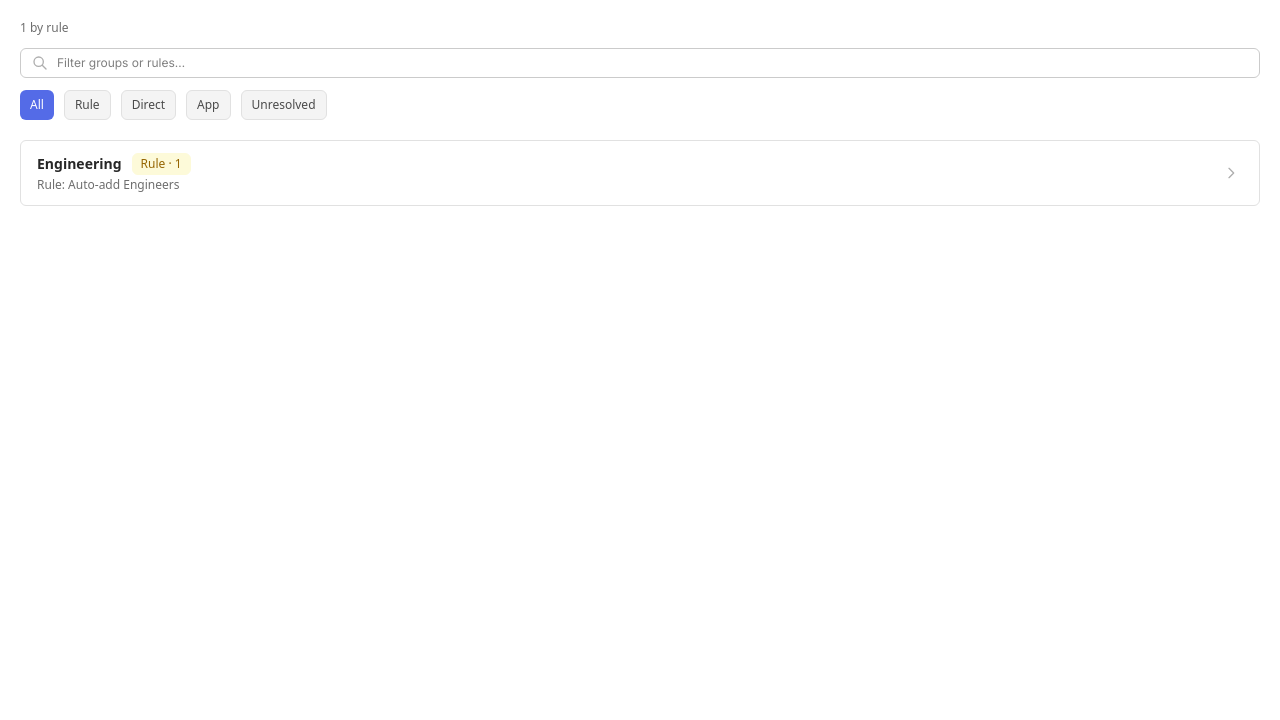
GroupMembershipsList — proving one membership against Okta › states an Okta "no rule" answer as an authoritative manual add
Click the button named "Show how Engineering was granted": click(1231, 173) [1219,161,1243,185]
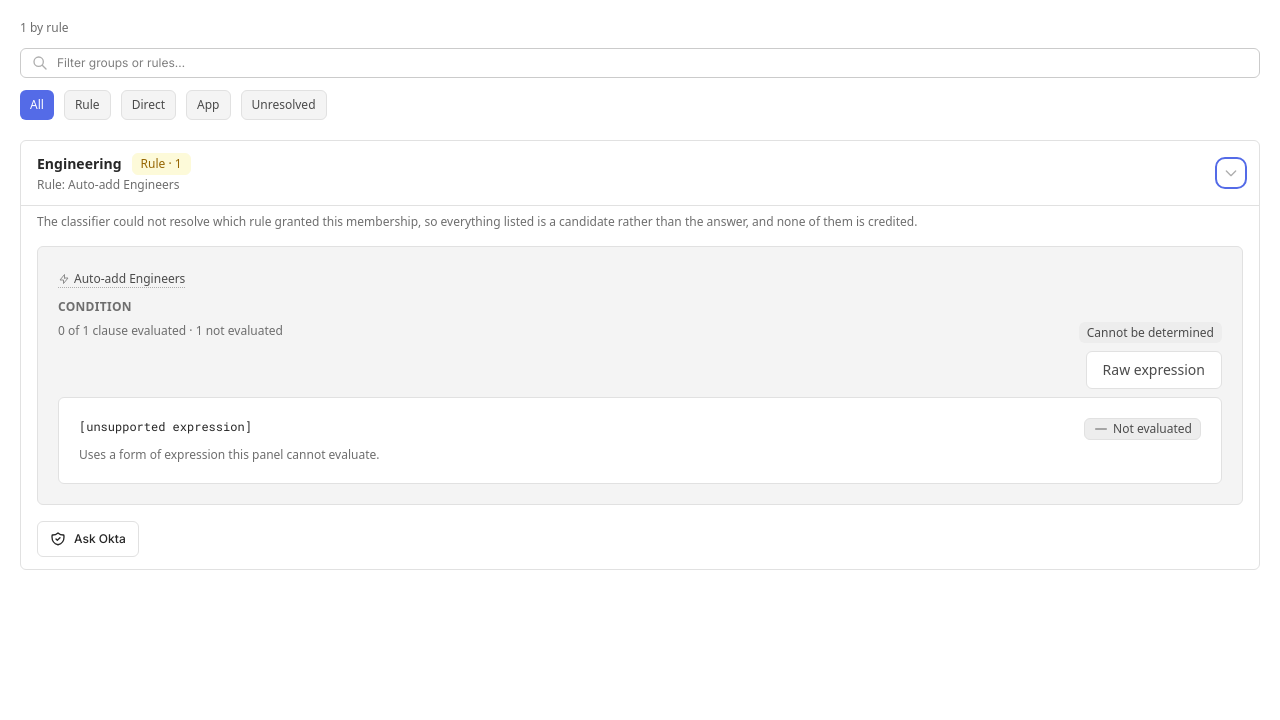
Click the button "Ask Okta": click(88, 539) [37,521,139,557]
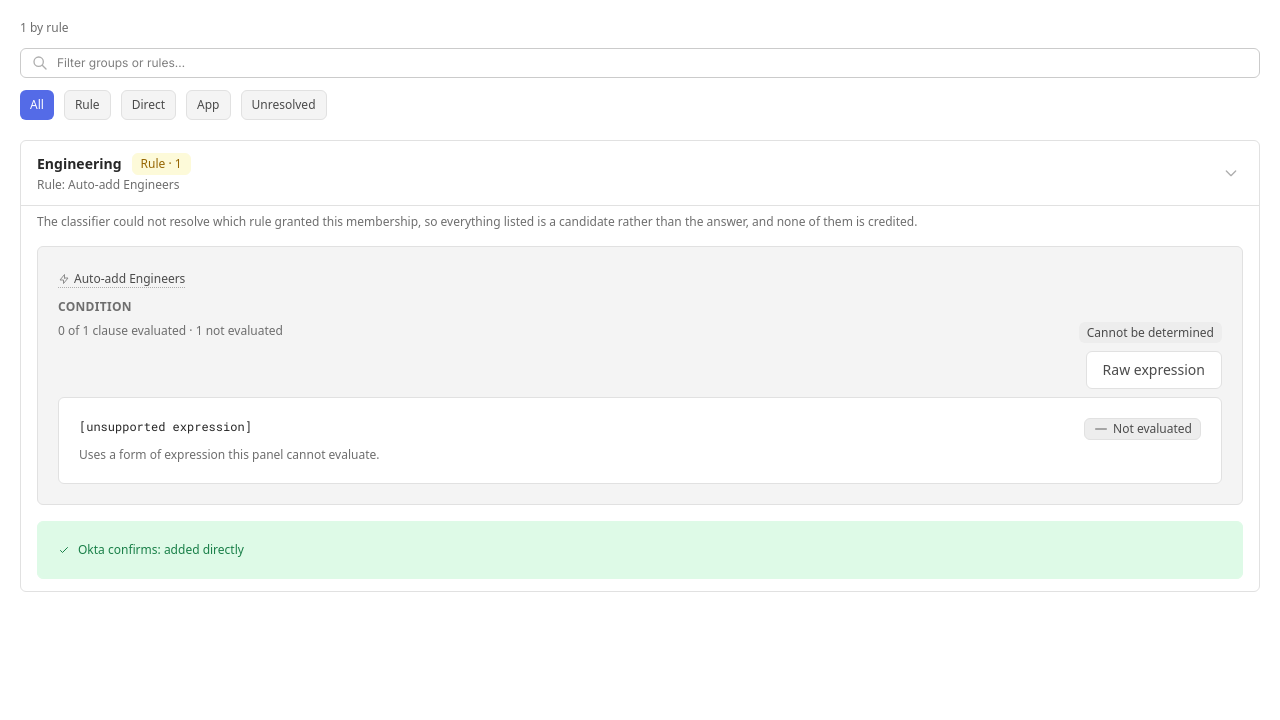
Result: the text "Okta confirms: added directly" is shown at [58,541,244,558]
